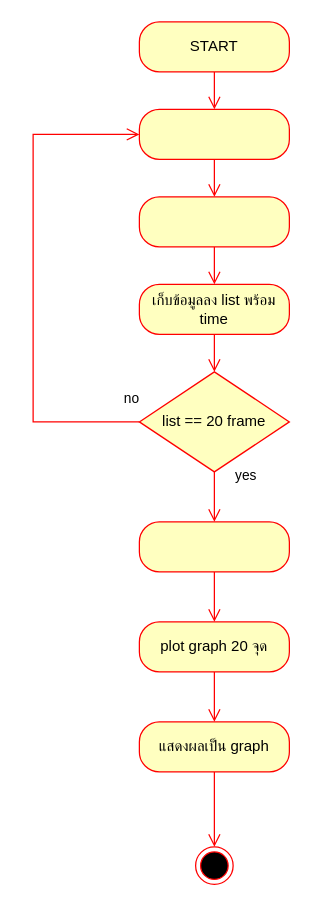
The diagram is 311 pixels wide and 906 high, and some of its shapes have lost their labels. Here are the shapes that lost their labels. From the top down, the centre of each, then its label:
At (213,133): "กล้องรับภาพ 1 frame เข้ามา".
At (213,221): "ปรับแต่งภาพ".
At (213,546): "คำนวณ intensity ทั้งหมด 20 frame".
